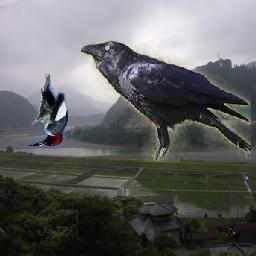Crow: (81, 40, 251, 162)
Woodpecker: (30, 74, 69, 146)
